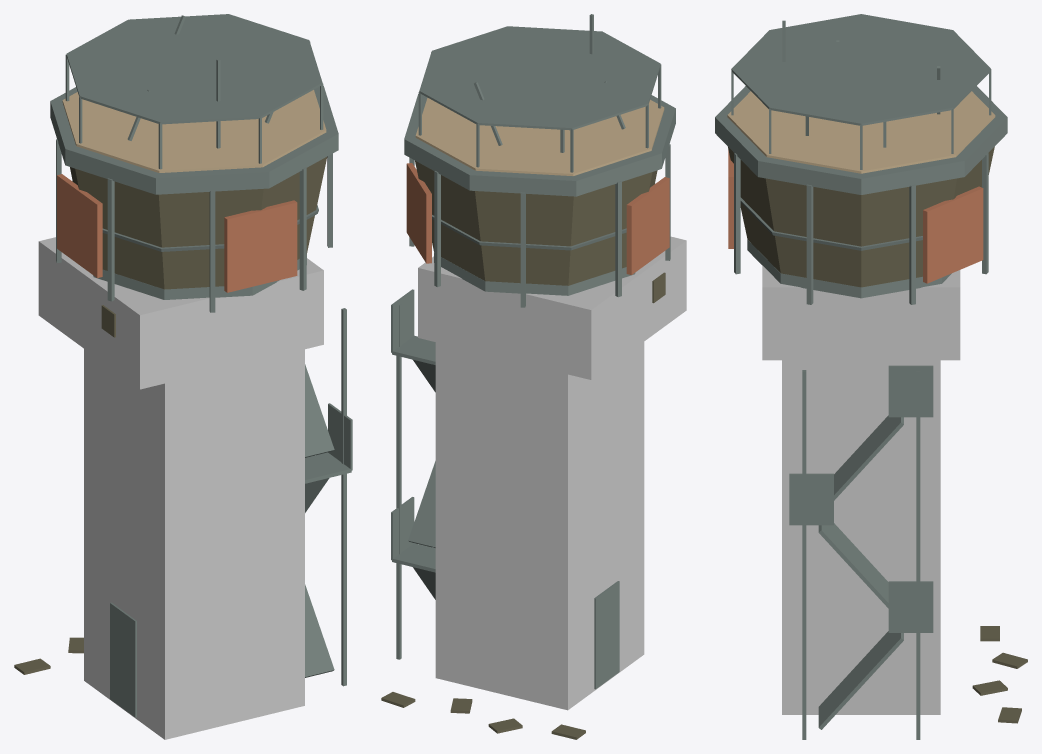
Rendered from SM_TorreControl_v1_LOD0.fbx.
3 views of the same model, side by side, from view 1: azimuth 30°, elevation 25°; view 2: azimuth 150°, elevation 25°; view 3: azimuth 270°, elevation 25° (orthographic). The views are drawn at different scales.
Visible parts, largest first — view 1: SM_torre_control_v1_LOD0; view 2: SM_torre_control_v1_LOD0; view 3: SM_torre_control_v1_LOD0.
Part boxes in pixels (x1,y1,x2,y2): SM_torre_control_v1_LOD0: (14, 14, 352, 739); SM_torre_control_v1_LOD0: (381, 14, 686, 739); SM_torre_control_v1_LOD0: (715, 14, 1027, 739).
Size of the model in its own units: 5.9 by 14.53 by 6.31.
